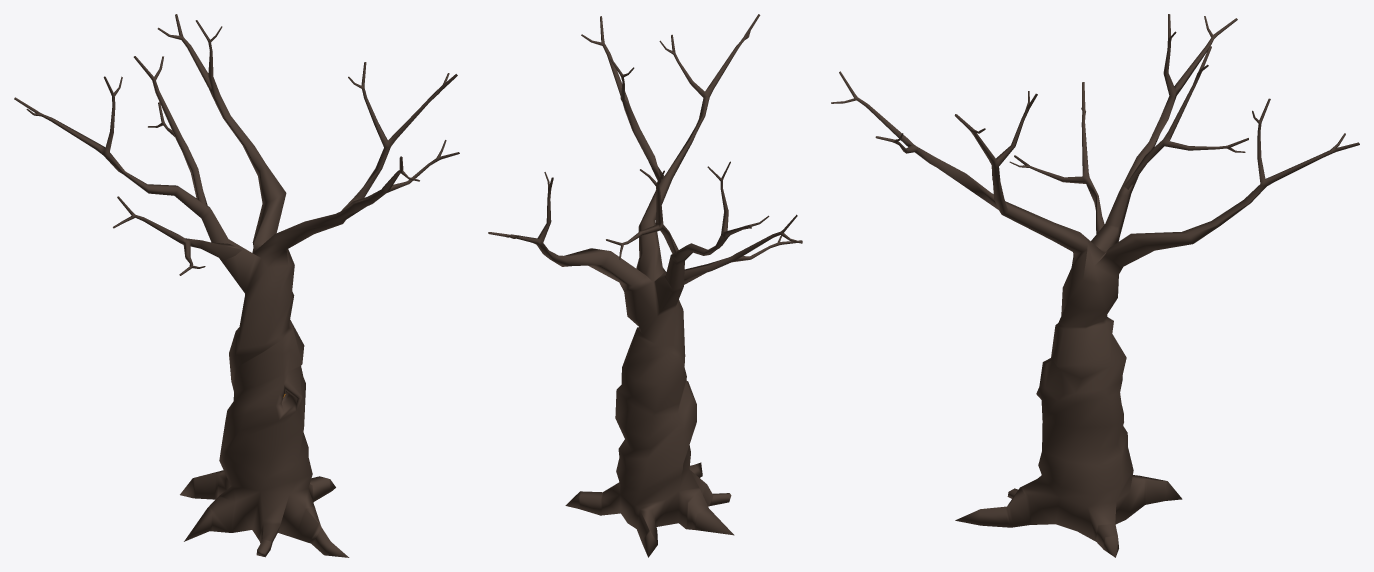
3 views of the same model, side by side, from view 1: azimuth 30°, elevation 25°; view 2: azimuth 150°, elevation 25°; view 3: azimuth 270°, elevation 25° (orthographic). The views are drawn at different scales.
Visible parts, largest first — view 1: SpookyTree01; view 2: SpookyTree01; view 3: SpookyTree01.
Boxes of the visible parts, x1,y1,x2,y2 form: SpookyTree01: [14, 14, 459, 557]; SpookyTree01: [488, 14, 802, 557]; SpookyTree01: [831, 14, 1359, 557].
Size of what is drawn, in the model's own units: 4.8 by 6.8 by 6.99.
Materials: 2 (2 with a texture image).
